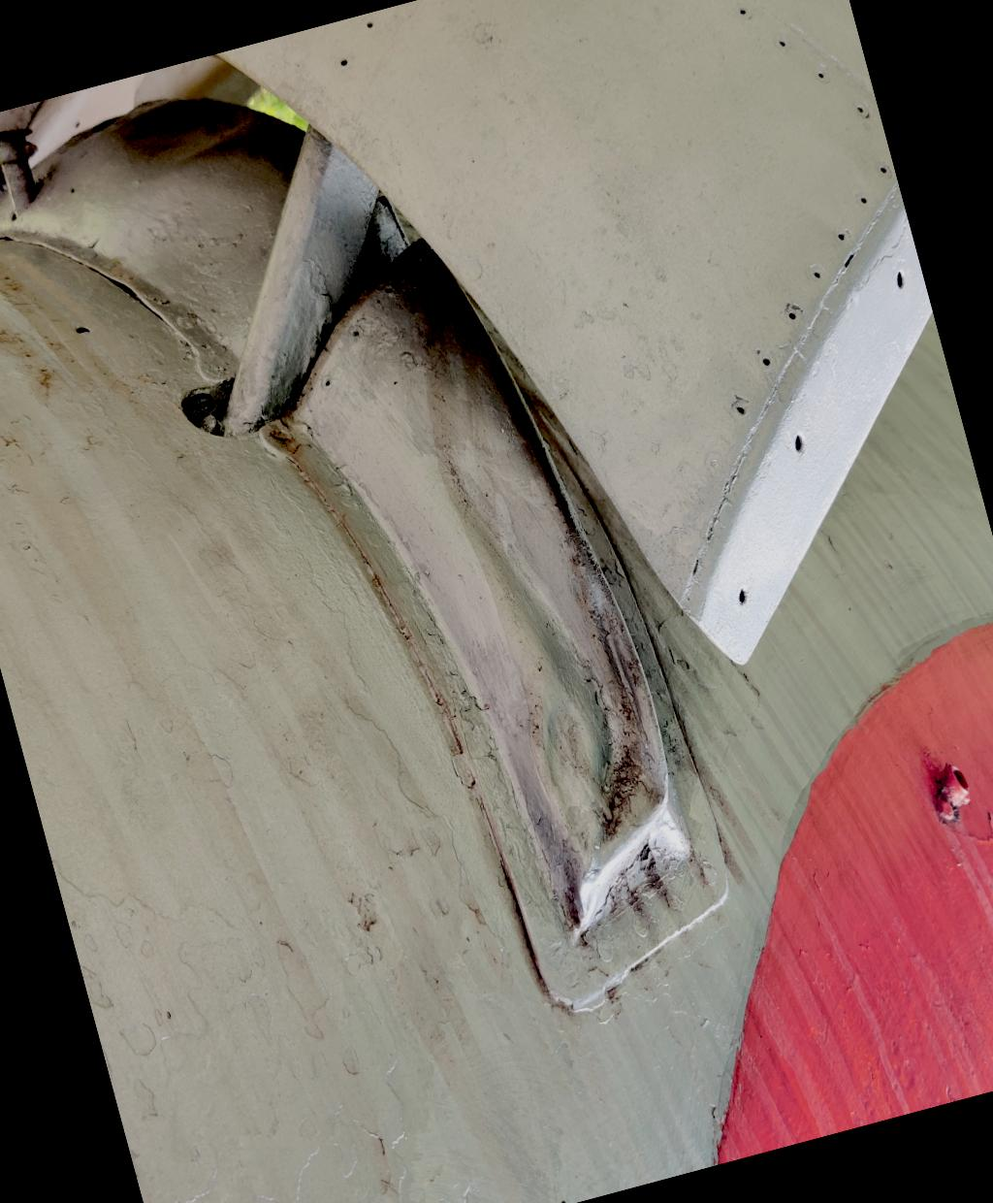dent: (453, 557, 744, 965)
